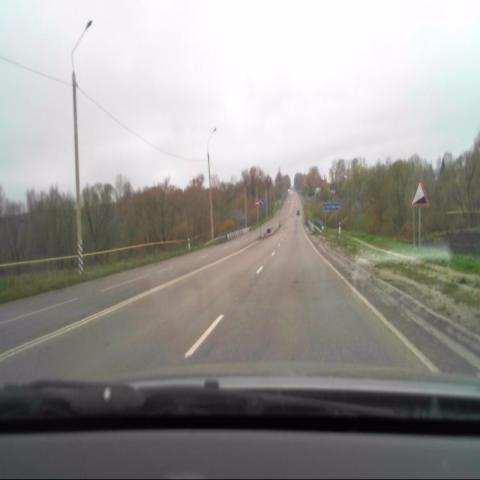1_14: (411, 179, 430, 207)
